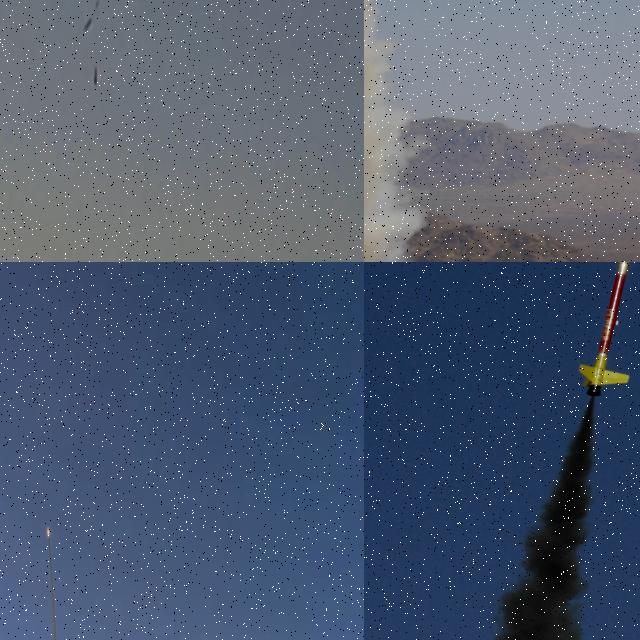Rocket: (578, 262, 635, 399), (94, 65, 98, 84), (47, 523, 49, 532)
